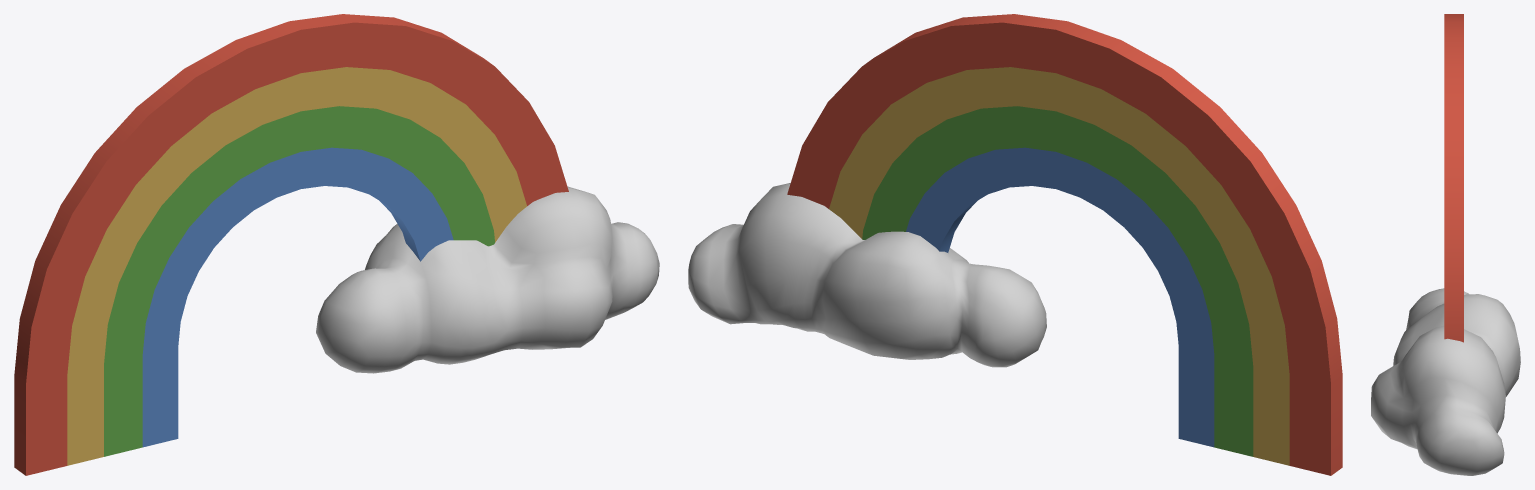
File: Rainbow_02.fbx
The picture shows the model from 3 angles, left to right: view 1: azimuth 30°, elevation 25°; view 2: azimuth 150°, elevation 25°; view 3: azimuth 270°, elevation 25°; orthographic projection. The views are drawn at different scales.
Visible parts, largest first — view 1: Rainbow_02; view 2: Rainbow_02; view 3: Rainbow_02.
Boxes of the visible parts, bbox=[...] form: Rainbow_02: bbox=[14, 14, 659, 475]; Rainbow_02: bbox=[688, 14, 1342, 475]; Rainbow_02: bbox=[1371, 14, 1520, 475].
Size of the model in its own units: 0.7895 by 0.4508 by 0.1922.
